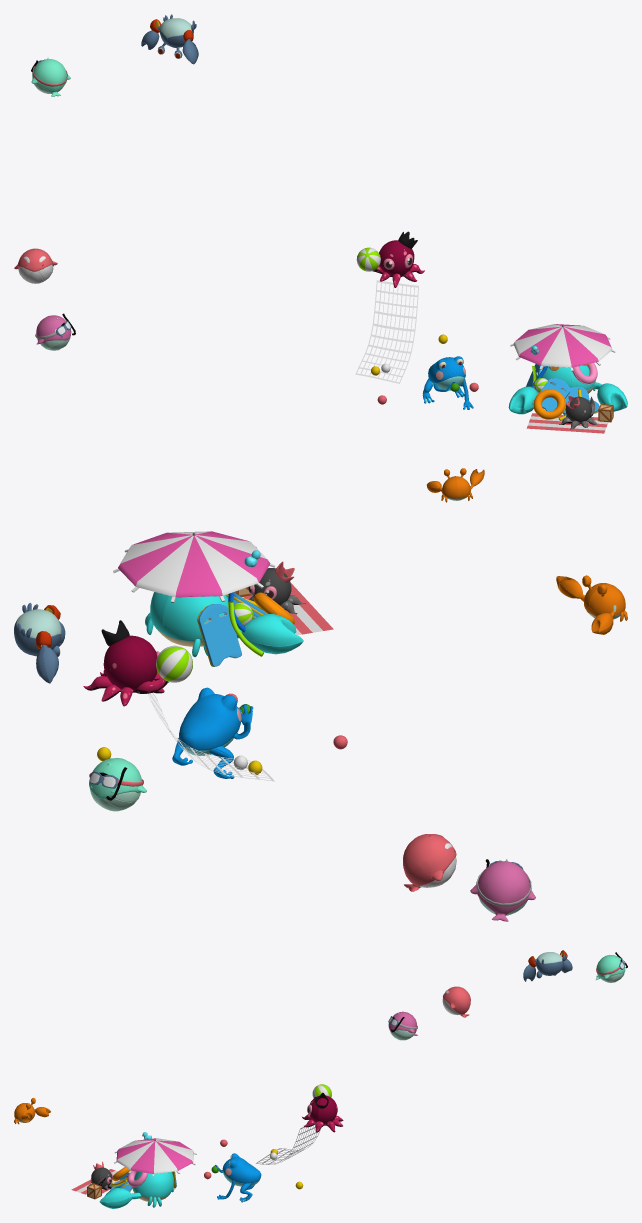
File: Pets.fbx
3 views of the same model, one above another, from view 1: azimuth 30°, elevation 25°; view 2: azimuth 150°, elevation 25°; view 3: azimuth 270°, elevation 25° (orthographic). The views are drawn at different scales.
Parts seen in each view (by area): view 1: group8, net19, craby, Girl:polySurface1, craby1, polySurface1, alaIzq_polySurface5, cuerpaso, body, pPlane10, main_c_geo; view 2: group8, craby, main_c_geo (×2), body, Girl:polySurface1, alaIzq_polySurface5, polySurface1, craby1, swimmingTable_5, cuerpaso, net19, UmiBall_3 (+3 smaller); view 3: group8, craby, body, polySurface1, alaIzq_polySurface5, Girl:polySurface1, cuerpaso, net19, main_c_geo, craby1.
Part boxes in pixels (<box>): group8: <box>510,324,615,371</box>; net19: <box>355,280,418,383</box>; craby: <box>508,364,627,414</box>; Girl:polySurface1: <box>35,313,75,350</box>; craby1: <box>426,468,484,502</box>; polySurface1: <box>31,57,70,96</box>; alaIzq_polySurface5: <box>14,248,57,283</box>; cuerpaso: <box>157,14,196,58</box>; body: <box>428,356,465,390</box>; pPlane10: <box>526,413,608,433</box>; main_c_geo: <box>379,240,414,275</box>; group8: <box>113,531,275,602</box>; craby: <box>145,592,303,657</box>; main_c_geo (×2): <box>103,568,291,690</box>; body: <box>179,687,241,755</box>; Girl:polySurface1: <box>470,859,535,921</box>; alaIzq_polySurface5: <box>403,834,456,891</box>; polySurface1: <box>89,758,146,811</box>; craby1: <box>556,575,627,634</box>; swimmingTable_5: <box>197,604,241,666</box>; cuerpaso: <box>14,602,61,656</box>; net19: <box>148,693,274,781</box>; UmiBall_3: <box>156,645,192,682</box>; group8: <box>114,1138,196,1176</box>; craby: <box>99,1171,174,1208</box>; body: <box>222,1153,261,1186</box>; polySurface1: <box>596,952,627,982</box>; alaIzq_polySurface5: <box>442,986,470,1017</box>; Girl:polySurface1: <box>388,1011,417,1040</box>; cuerpaso: <box>535,952,566,978</box>; net19: <box>256,1125,321,1164</box>; main_c_geo: <box>309,1095,337,1124</box>; craby1: <box>14,1098,50,1124</box>.
Bounding box in the file's own units: 221 × 131 × 347.
